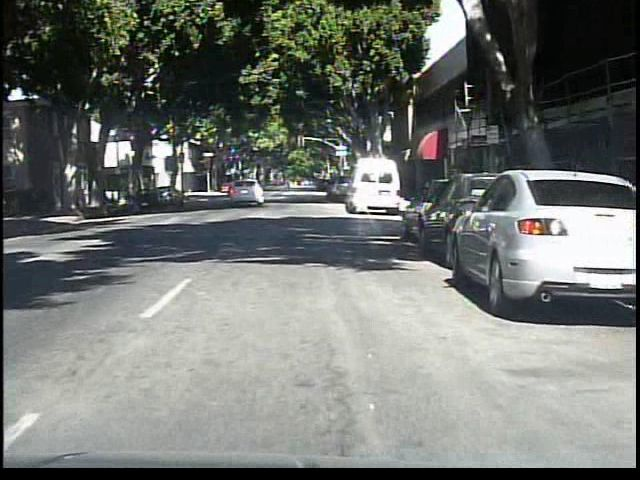person: (276, 168, 296, 200)
